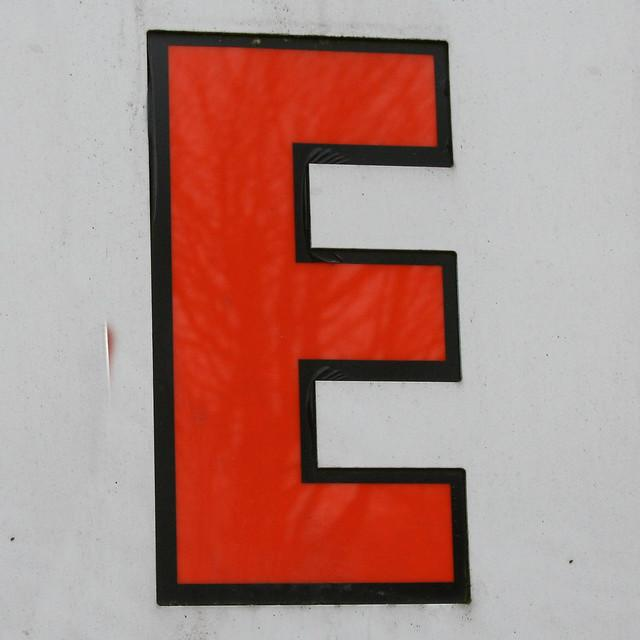E: (108, 12, 518, 628)
